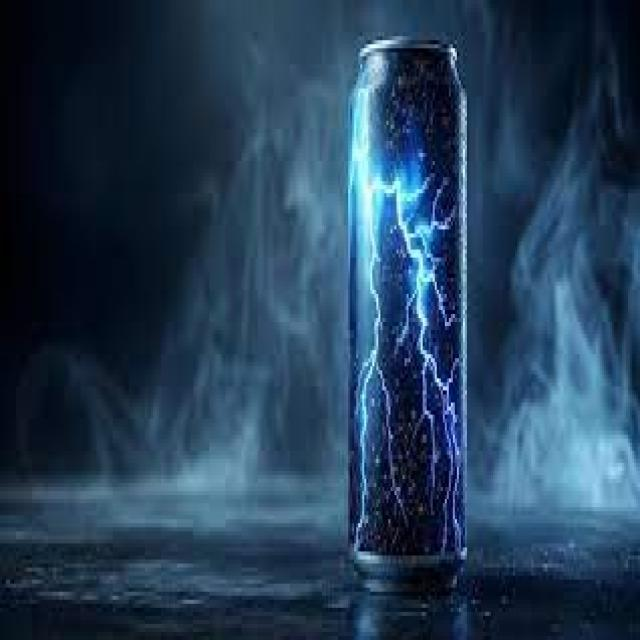Cans: (342, 24, 475, 596)
